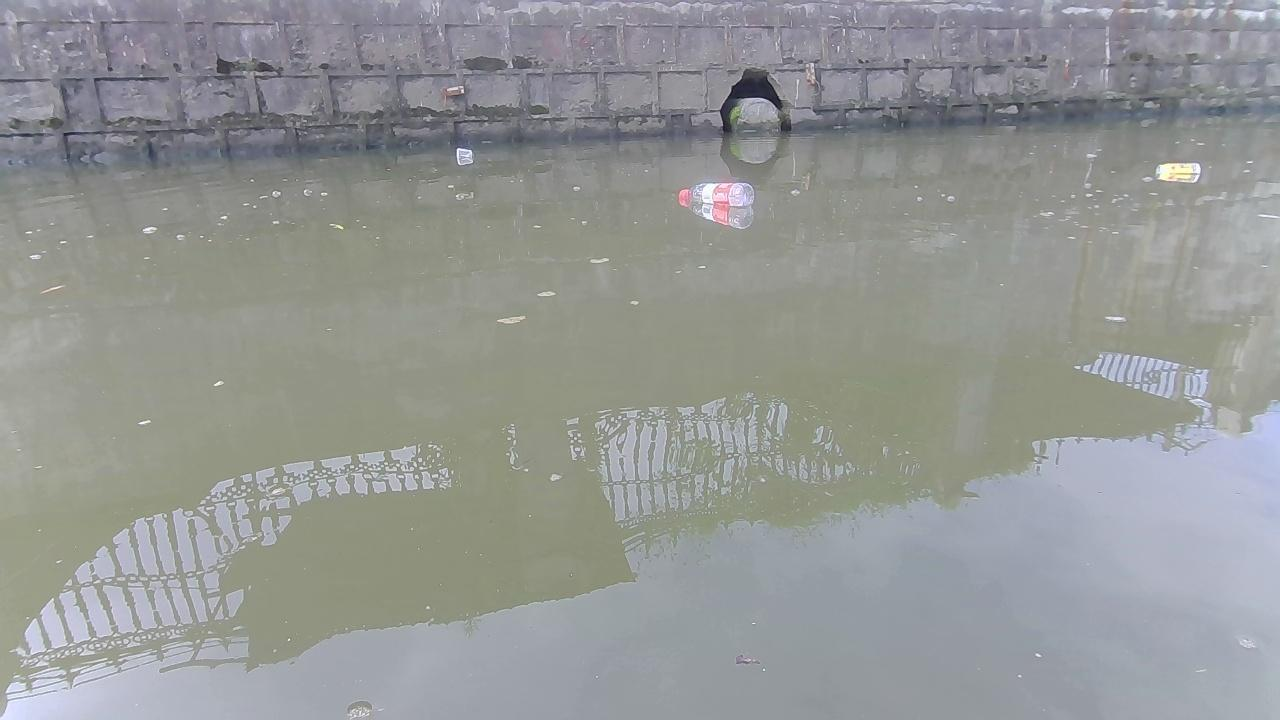bottle: (676, 178, 751, 207), (1153, 160, 1202, 180), (453, 146, 476, 157)
